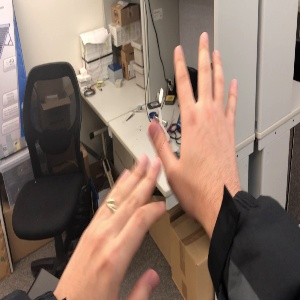hand: (149, 32, 241, 193), (60, 156, 165, 294)
